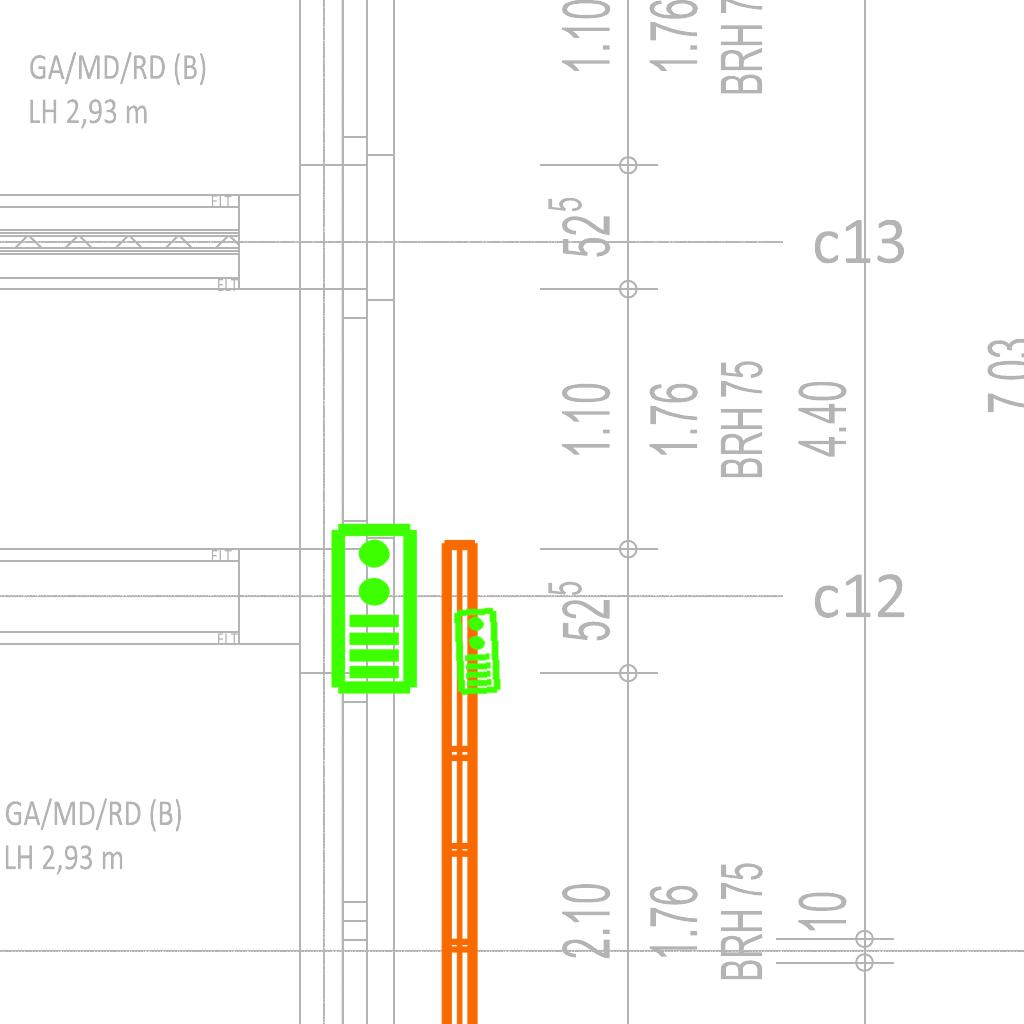Ambulanz_Pendelleuchte_LED: (429, 529, 541, 1024)
Gegensprechanlage_mit_Video: (325, 520, 420, 696), (450, 605, 503, 697)
